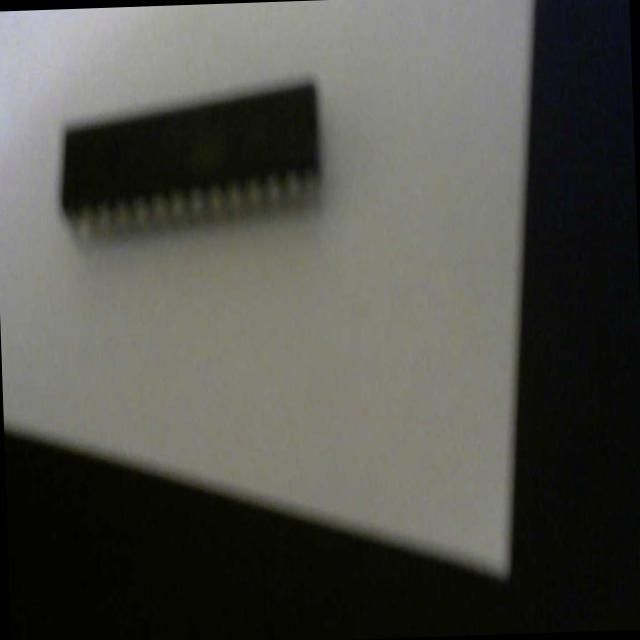atmega: (53, 73, 327, 250)
